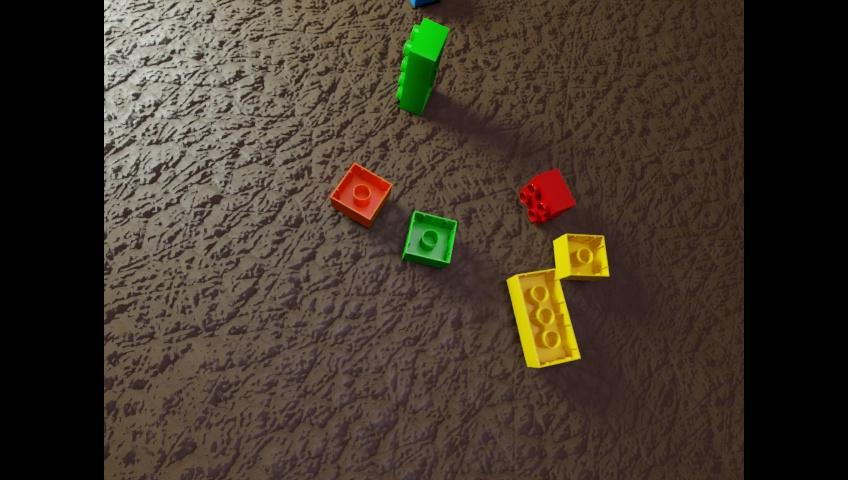2x2_blue: (410, 0, 434, 6)
2x2_green: (403, 210, 456, 268)
2x2_orange: (330, 162, 391, 227)
2x2_red: (519, 168, 575, 225)
2x2_yellow: (553, 233, 608, 280)
4x2_green: (396, 17, 448, 115)
4x2_yellow: (506, 268, 579, 367)
